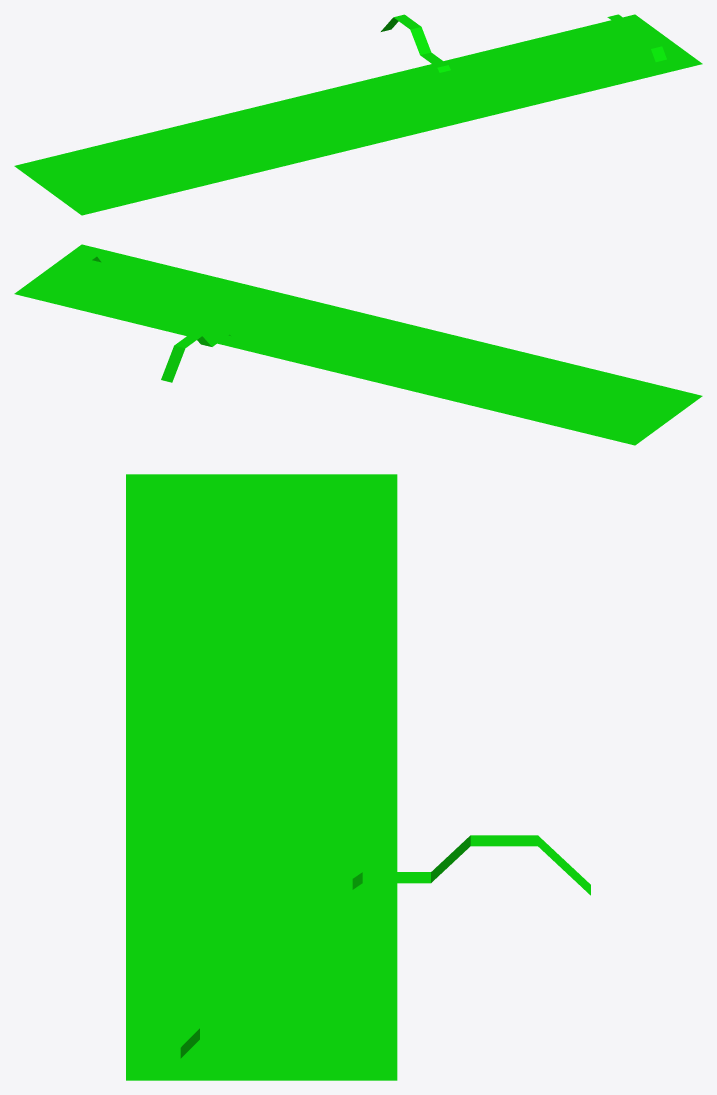
Rendered from Walkables.fbx.
3 renders of one model, top to bottom at view 1: azimuth 30°, elevation 25°; view 2: azimuth 150°, elevation 25°; view 3: azimuth 270°, elevation 25°, orthographic. The views are drawn at different scales.
Parts seen in each view (by area): view 1: walkables, walkables2, walkables1; view 2: walkables, walkables2, walkables1; view 3: walkables, walkables2, walkables1.
Part boxes in pixels (x1,y1,x2,y2): walkables: (14, 14, 702, 215); walkables2: (381, 14, 450, 72); walkables1: (607, 14, 666, 61); walkables: (14, 244, 702, 445); walkables2: (161, 332, 230, 382); walkables1: (42, 253, 101, 288); walkables: (126, 474, 397, 1080); walkables2: (352, 835, 590, 895); walkables1: (180, 1028, 374, 1058).
Size of the model in its own units: 5539 by 211 by 1795.
